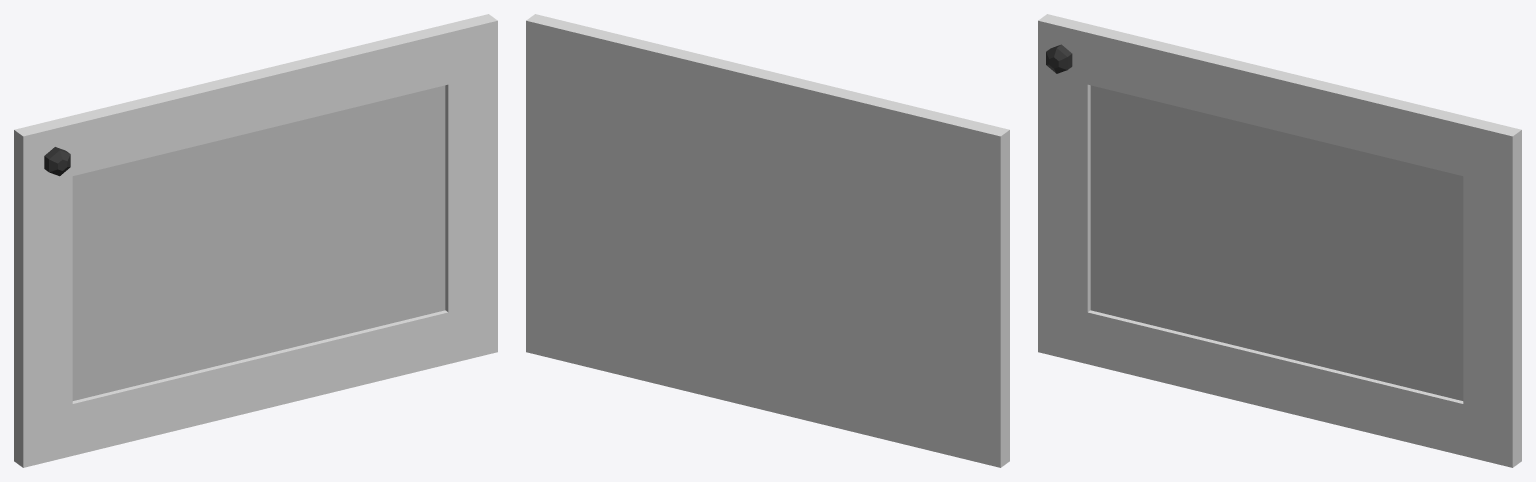
The model's file is TV_Table3_C1_02.fbx.
3 views of the same model, side by side, from view 1: azimuth 30°, elevation 25°; view 2: azimuth 150°, elevation 25°; view 3: azimuth 330°, elevation 25° (orthographic).
Visible parts, largest first — view 1: TV_Table3_C1_02; view 2: TV_Table3_C1_02; view 3: TV_Table3_C1_02.
Part boxes in pixels (<box>): TV_Table3_C1_02: <box>14,14,497,467</box>; TV_Table3_C1_02: <box>526,14,1009,467</box>; TV_Table3_C1_02: <box>1038,14,1521,467</box>.
Bounding box in the file's own units: 59.97 × 40.02 × 4.58.
